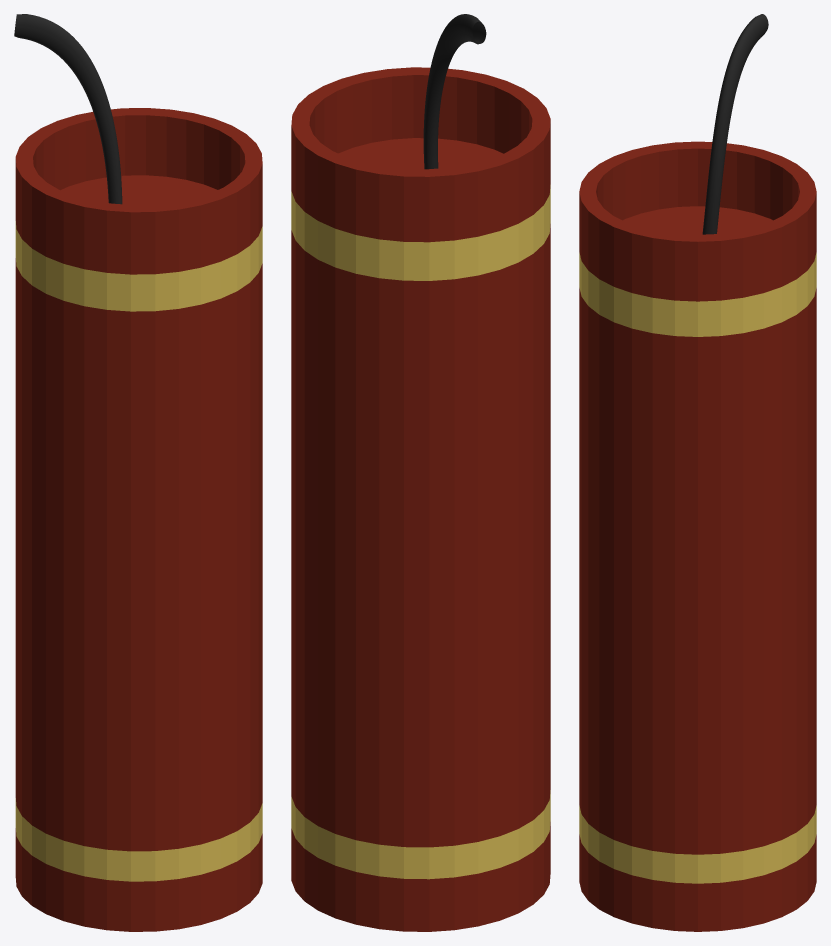
The model's file is FireCracker.fbx.
The picture shows the model from 3 angles, left to right: view 1: azimuth 30°, elevation 25°; view 2: azimuth 150°, elevation 25°; view 3: azimuth 270°, elevation 25°; orthographic projection. The views are drawn at different scales.
Parts seen in each view (by area): view 1: Cylinder.013, NurbsCurve; view 2: Cylinder.013, NurbsCurve; view 3: Cylinder.013, NurbsCurve.
Part boxes in pixels (x1,y1,x2,y2): Cylinder.013: (15, 108, 262, 931); NurbsCurve: (14, 14, 122, 204); Cylinder.013: (291, 67, 550, 931); NurbsCurve: (423, 14, 486, 169); Cylinder.013: (579, 141, 816, 931); NurbsCurve: (702, 14, 768, 234).
Bounding box in the file's own units: 97.03 × 373 × 97.03.
